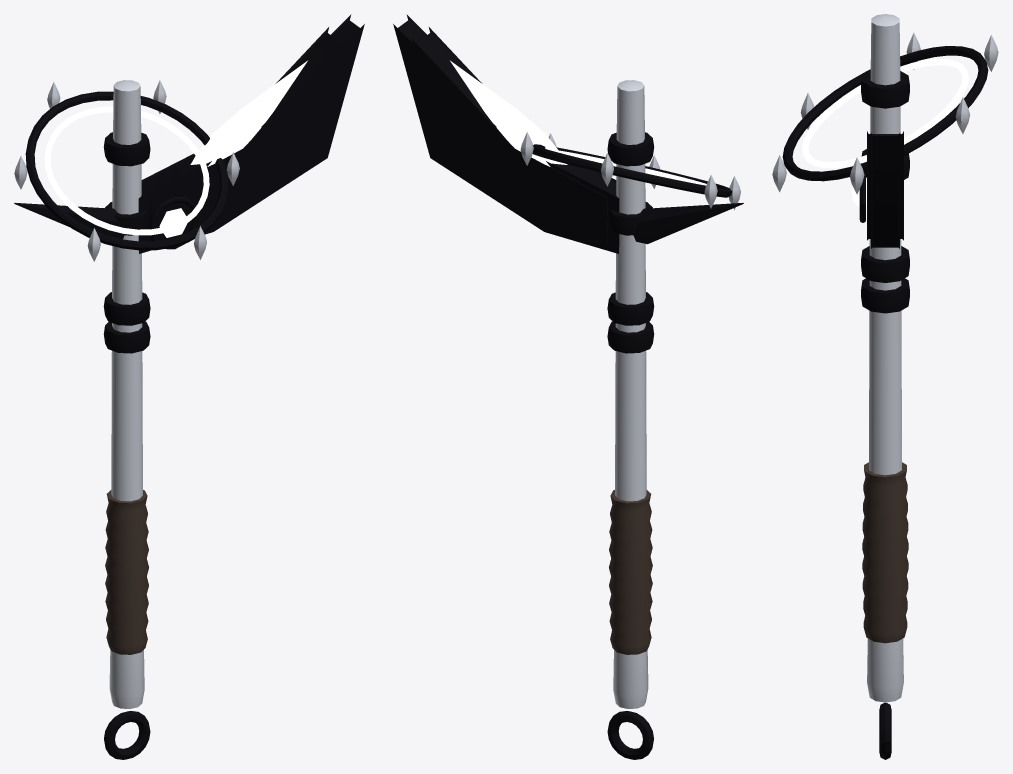
File: esc_w_knight_axe_7.glb
The picture shows the model from 3 angles, left to right: view 1: azimuth 30°, elevation 25°; view 2: azimuth 150°, elevation 25°; view 3: azimuth 270°, elevation 25°; orthographic projection. The views are drawn at different scales.
Visible parts, largest first — view 1: esc_w_knight_axe_7; view 2: esc_w_knight_axe_7; view 3: esc_w_knight_axe_7.
Boxes of the visible parts, <box> form: esc_w_knight_axe_7: <box>14,14,364,759</box>; esc_w_knight_axe_7: <box>393,14,743,759</box>; esc_w_knight_axe_7: <box>772,14,998,759</box>.
Bounding box in the file's own units: 0.519 × 0.9861 × 0.2702.
